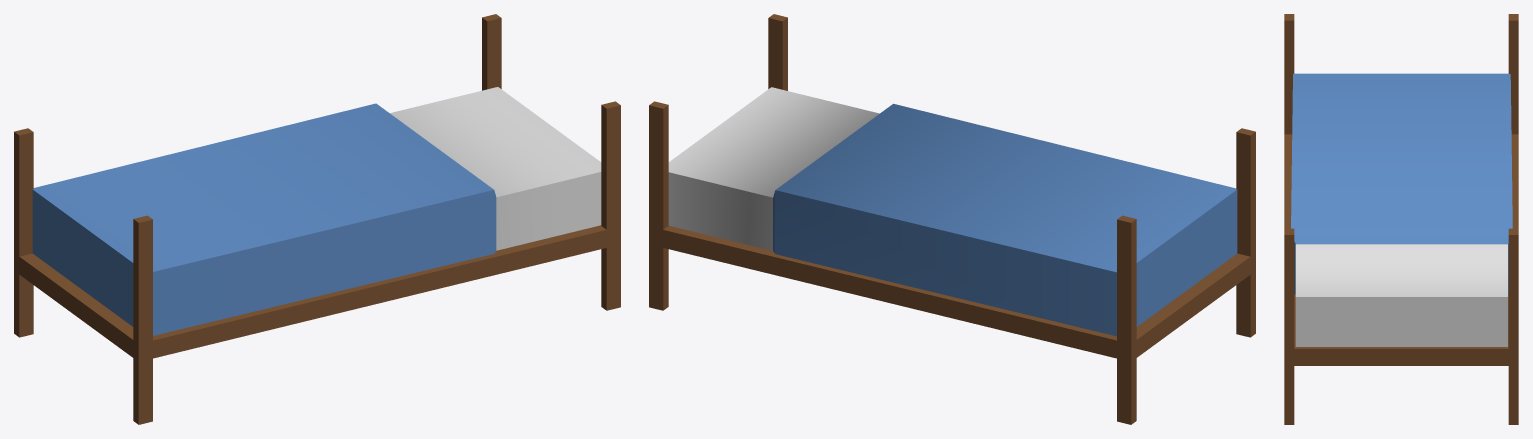
The model's file is SM_Bed.FBX.
The picture shows the model from 3 angles, left to right: view 1: azimuth 30°, elevation 25°; view 2: azimuth 150°, elevation 25°; view 3: azimuth 270°, elevation 25°; orthographic projection. The views are drawn at different scales.
Visible parts, largest first — view 1: bed001; view 2: bed001; view 3: bed001.
Part boxes in pixels (box(x1,y1,x2,y2)): bed001: box(14, 14, 620, 424); bed001: box(649, 14, 1255, 424); bed001: box(1284, 14, 1518, 424).
Size of the model in its own units: 140 by 56.06 by 62.74.
